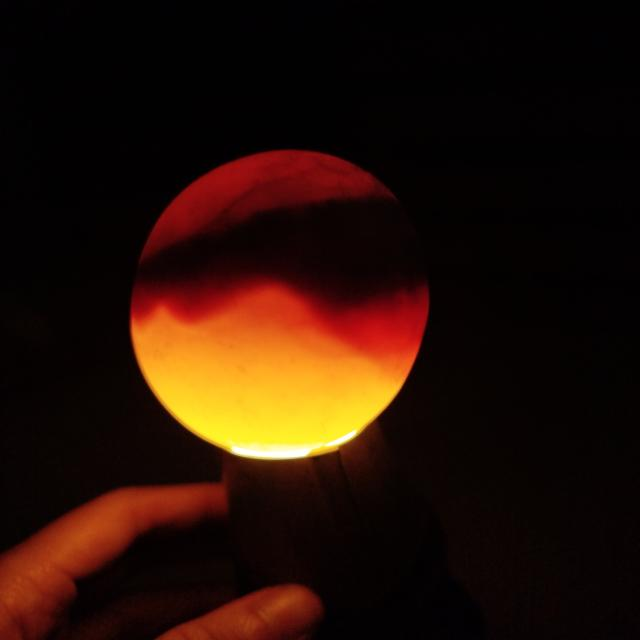Area Infectada: (134, 195, 430, 312)
